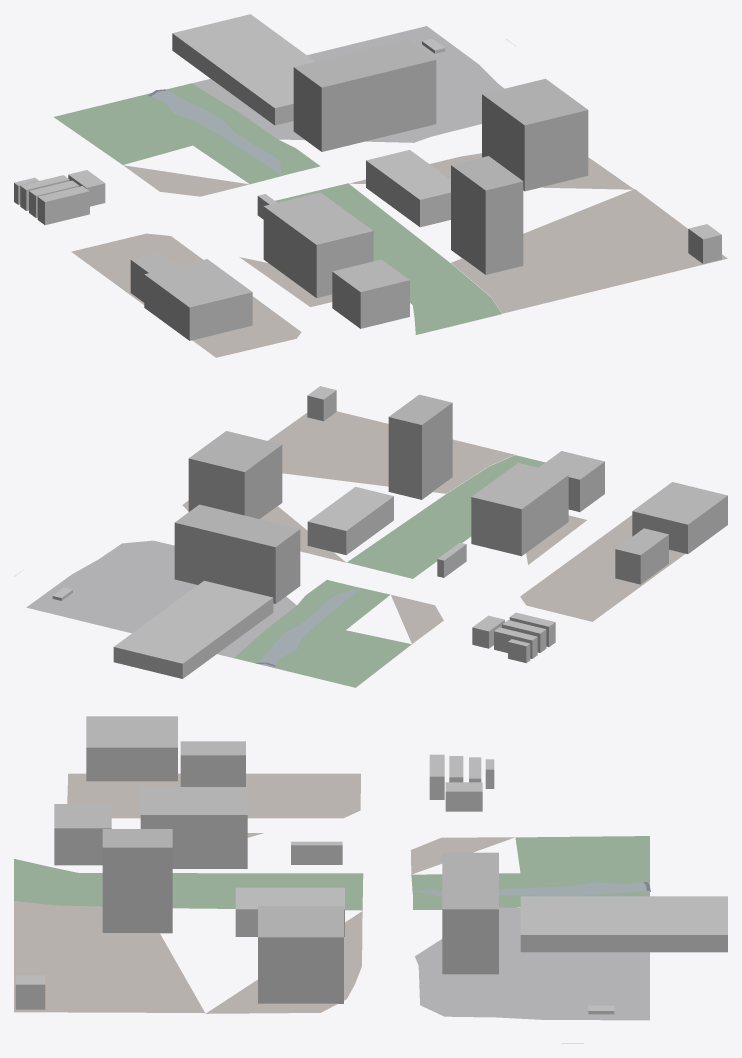
The model's file is 117_75_mid.glb.
3 renders of one model, top to bottom at view 1: azimuth 30°, elevation 25°; view 2: azimuth 150°, elevation 25°; view 3: azimuth 270°, elevation 25°, orthographic. The views are drawn at different scales.
Bounding box in the file's own units: 516 × 75.31 × 561.
